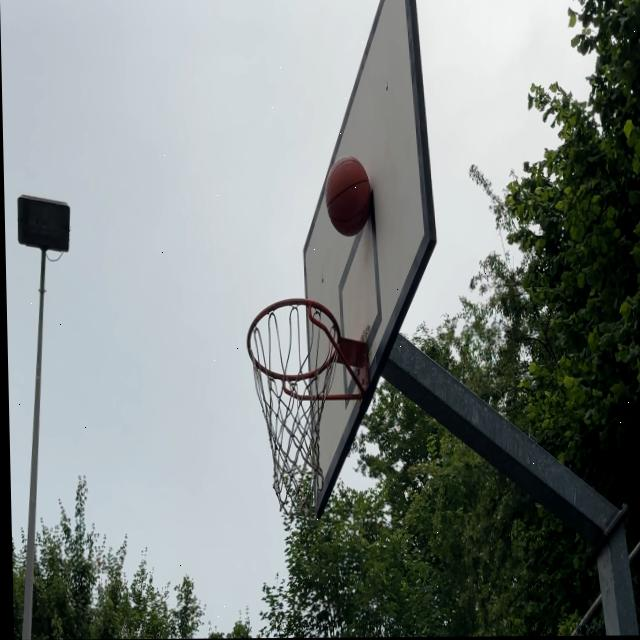rebound_hit: (326, 158, 375, 237)
